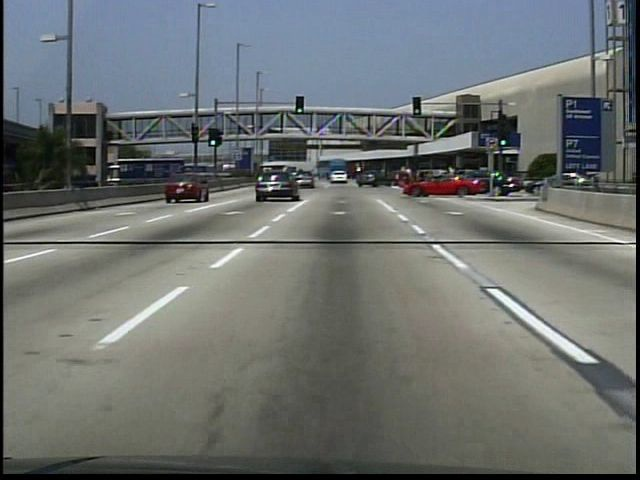person: (237, 126, 243, 138)
